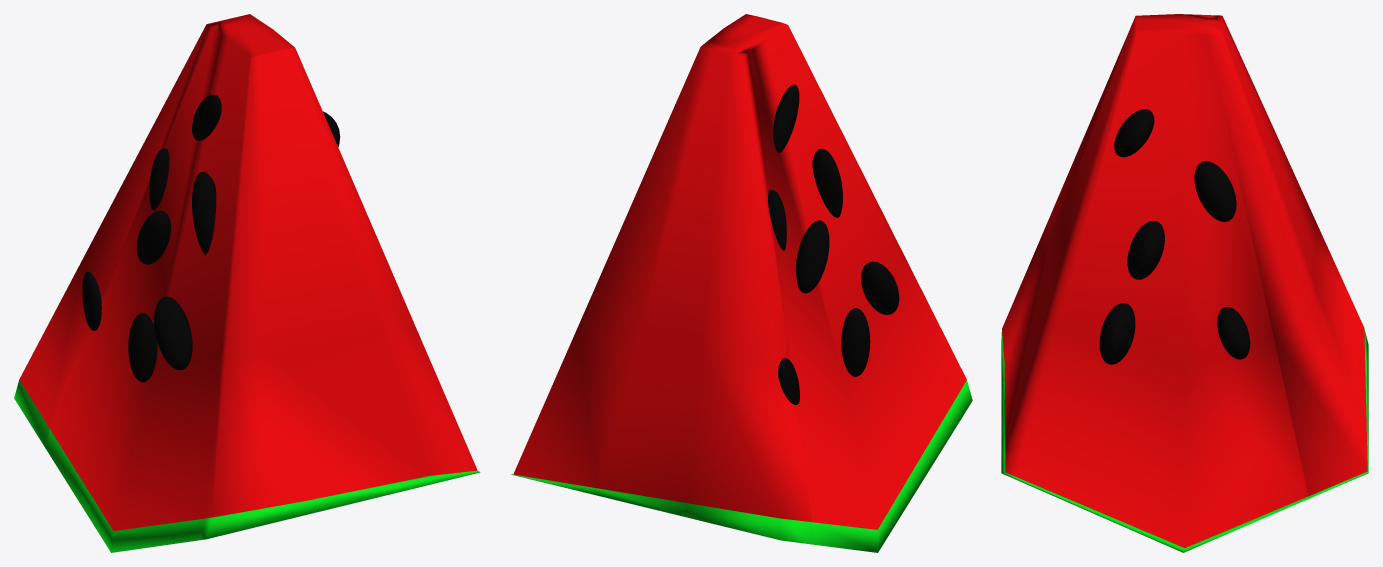
File: watermelonShape.glb
The picture shows the model from 3 angles, left to right: view 1: azimuth 30°, elevation 25°; view 2: azimuth 150°, elevation 25°; view 3: azimuth 270°, elevation 25°; orthographic projection. The views are drawn at different scales.
Visible parts, largest first — view 1: Cube, Sphere.009, Sphere.007, Sphere.005, Sphere.008, Sphere.010, Sphere.011, Sphere.006; view 2: Cube, Sphere.008, Sphere.007, Sphere.009, Sphere.005, Sphere.010, Sphere.006, Sphere.011; view 3: Cube, Sphere, Sphere.002, Sphere.004, Sphere.003, Sphere.001.
Part boxes in pixels (x1,y1,x2,y2): Cube: [14, 14, 480, 552]; Sphere.009: [154, 296, 192, 370]; Sphere.007: [128, 313, 157, 382]; Sphere.005: [192, 172, 216, 254]; Sphere.008: [136, 210, 170, 264]; Sphere.010: [192, 94, 221, 140]; Sphere.011: [82, 271, 101, 330]; Sphere.006: [149, 148, 169, 210]; Cube: [511, 14, 972, 552]; Sphere.008: [796, 220, 829, 293]; Sphere.007: [841, 308, 870, 376]; Sphere.009: [861, 261, 899, 314]; Sphere.005: [812, 148, 842, 217]; Sphere.010: [773, 84, 799, 152]; Sphere.006: [768, 190, 786, 250]; Sphere.011: [778, 358, 799, 404]; Cube: [1001, 14, 1368, 552]; Sphere: [1194, 161, 1236, 221]; Sphere.002: [1099, 303, 1135, 364]; Sphere.004: [1127, 220, 1164, 279]; Sphere.003: [1114, 109, 1154, 157]; Sphere.001: [1217, 307, 1250, 359].
Bounding box in the file's own units: 1.73 × 2.94 × 2.11.
